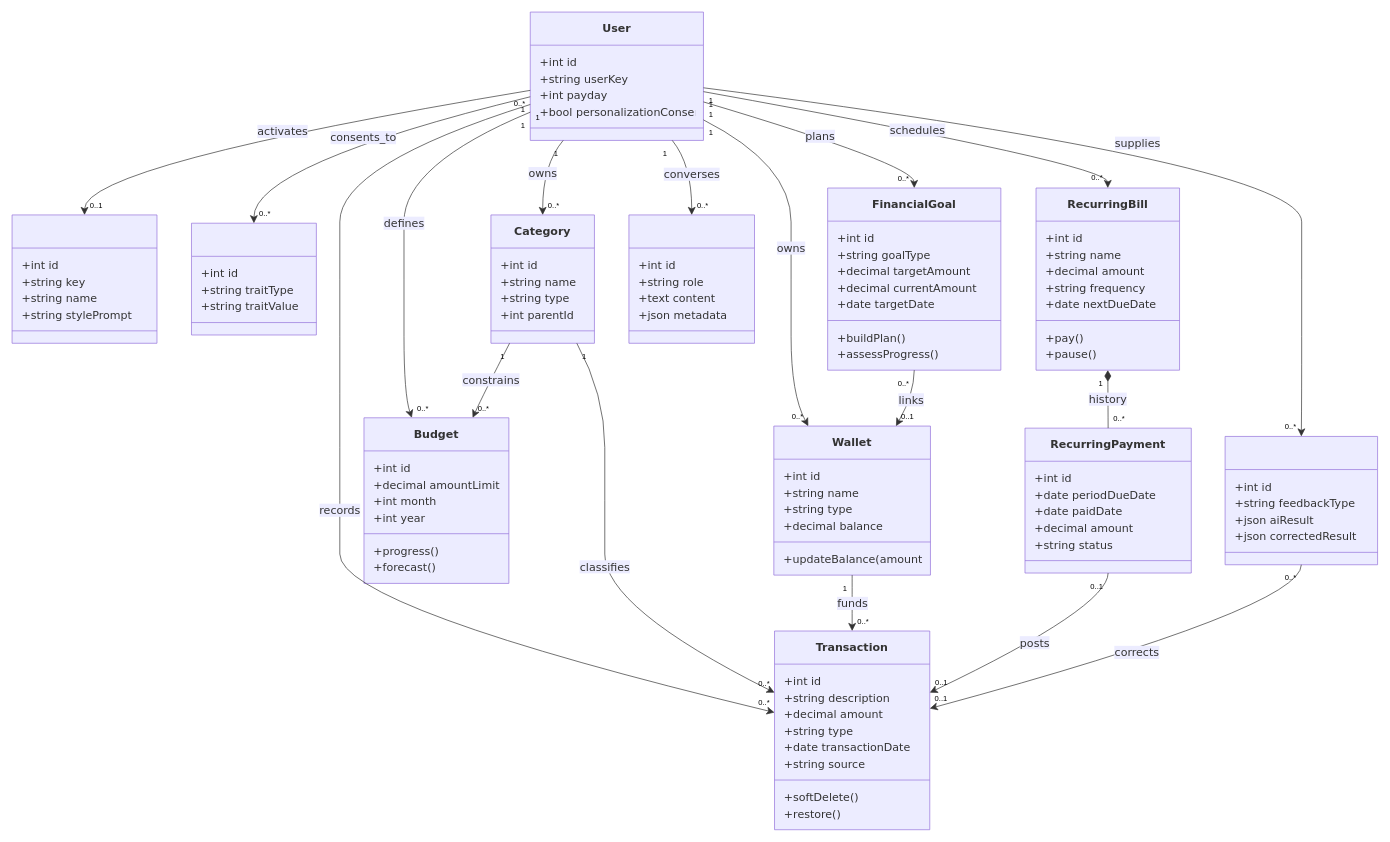
This 1390x842 diagram has some shape labels left out. The shapes that lost their labels are listed below. From the top down, each one's box as (x1, y1, x2, y2) in pixels, then its label:
(11, 214, 157, 343): AIPersonality
(191, 223, 316, 335): UserTrait
(628, 214, 755, 343): ChatMessage
(1224, 436, 1378, 565): AiFeedback
